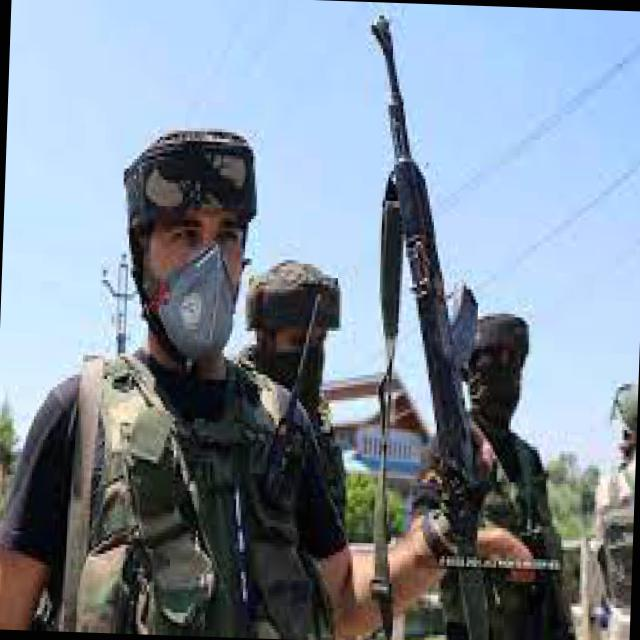long weapon: (335, 4, 553, 639)
